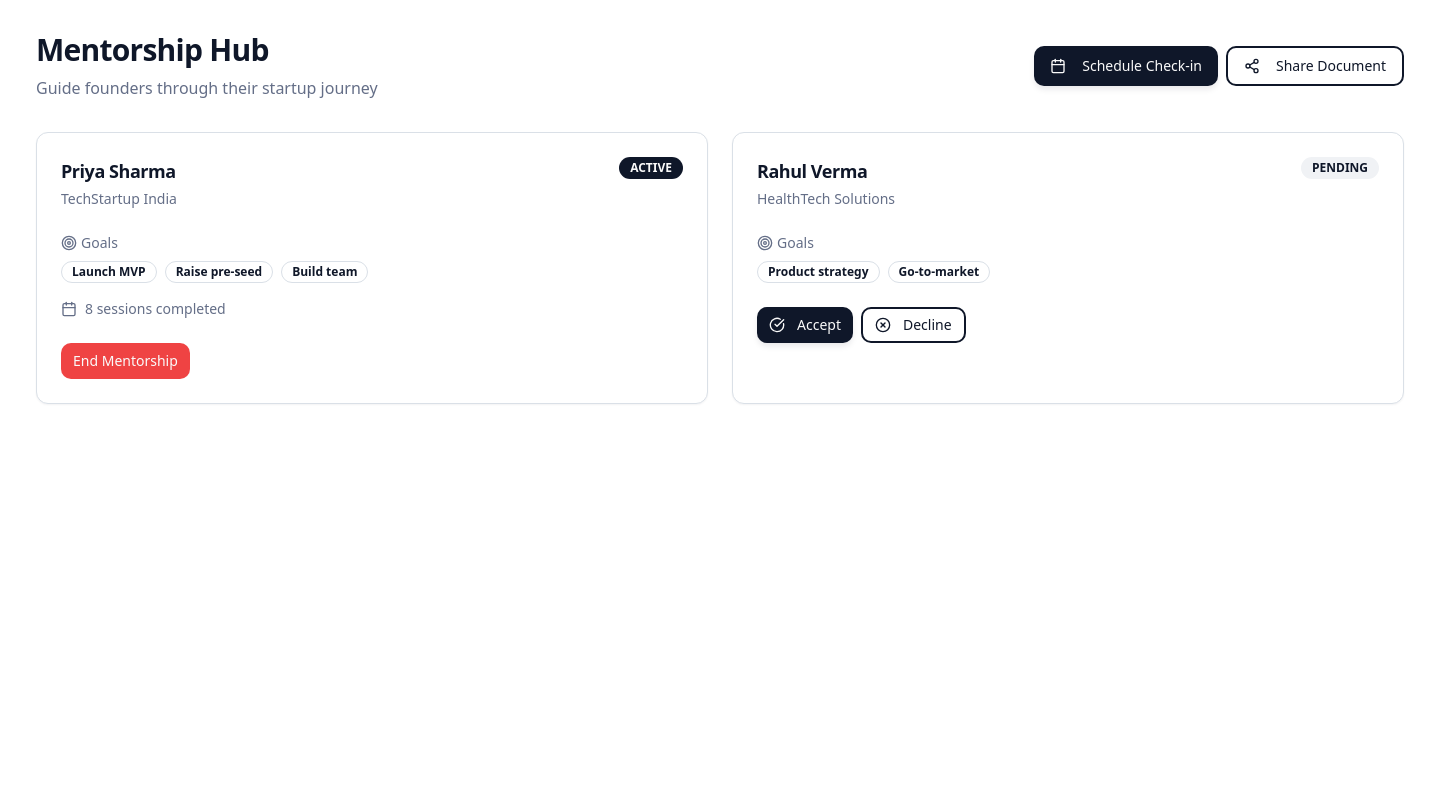
Test: US-OPERATOR-003: Mentor Startups › Document Sharing › should allow sharing documents
This screenshot has width=1440, height=810.
Expected: the text "Priya Sharma" is shown, [61,159,176,183]
Click the button "Share Document". click: (1315, 66)
box: [1226,46,1404,86]
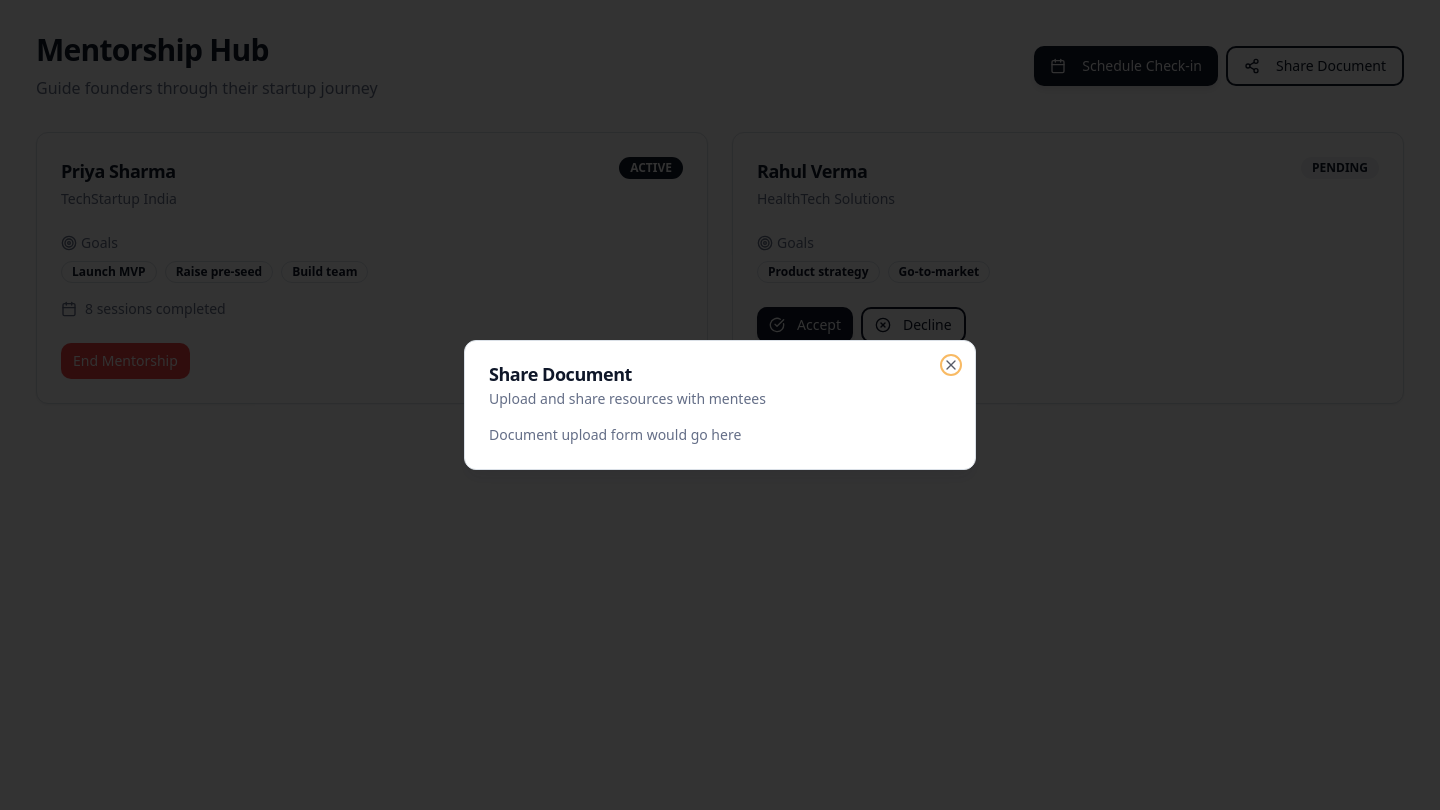
Expected: the text "Upload and share resources with mentees" is shown, [489,389,766,408]
